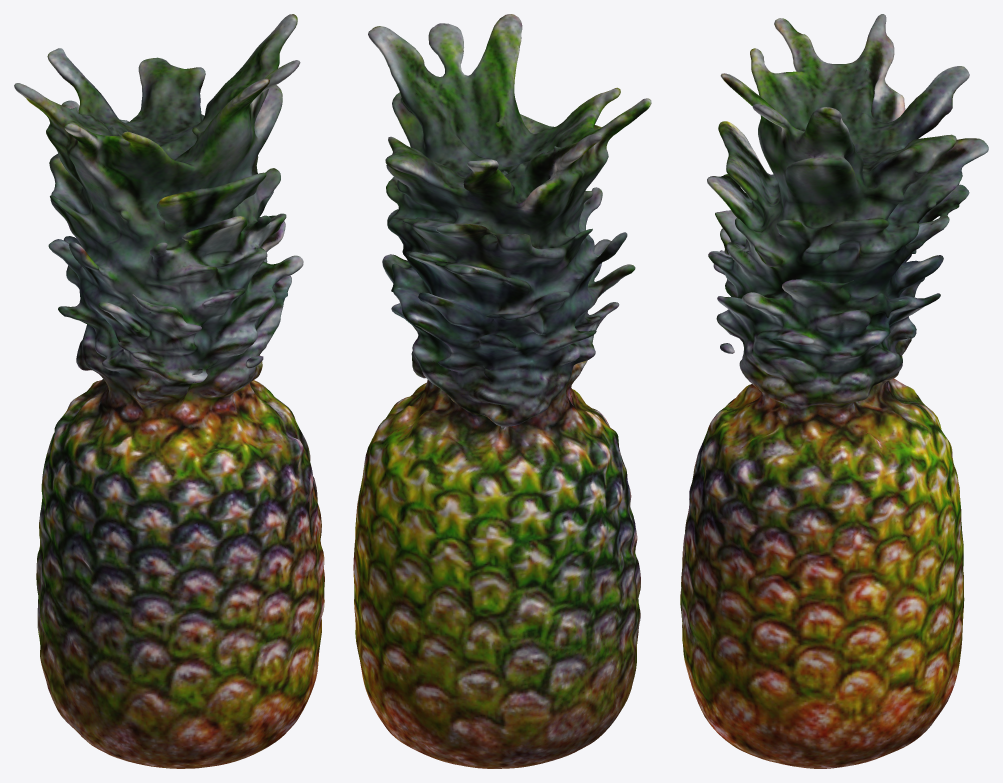
Rendered from pineapple.glb.
The picture shows the model from 3 angles, left to right: view 1: azimuth 30°, elevation 25°; view 2: azimuth 150°, elevation 25°; view 3: azimuth 270°, elevation 25°; orthographic projection.
Parts seen in each view (by area): view 1: model_0; view 2: model_0; view 3: model_0.
Boxes of the visible parts, bbox=[...] form: model_0: bbox=[14, 14, 324, 768]; model_0: bbox=[353, 14, 651, 768]; model_0: bbox=[680, 14, 988, 768].
Bounding box in the file's own units: 0.6924 × 1.79 × 0.7204.
1 material, 1 textured.
